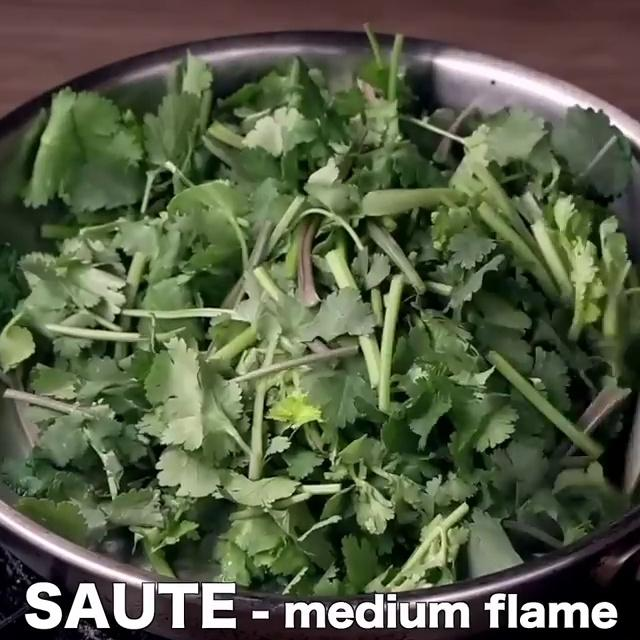cilantro: (17, 89, 638, 549)
